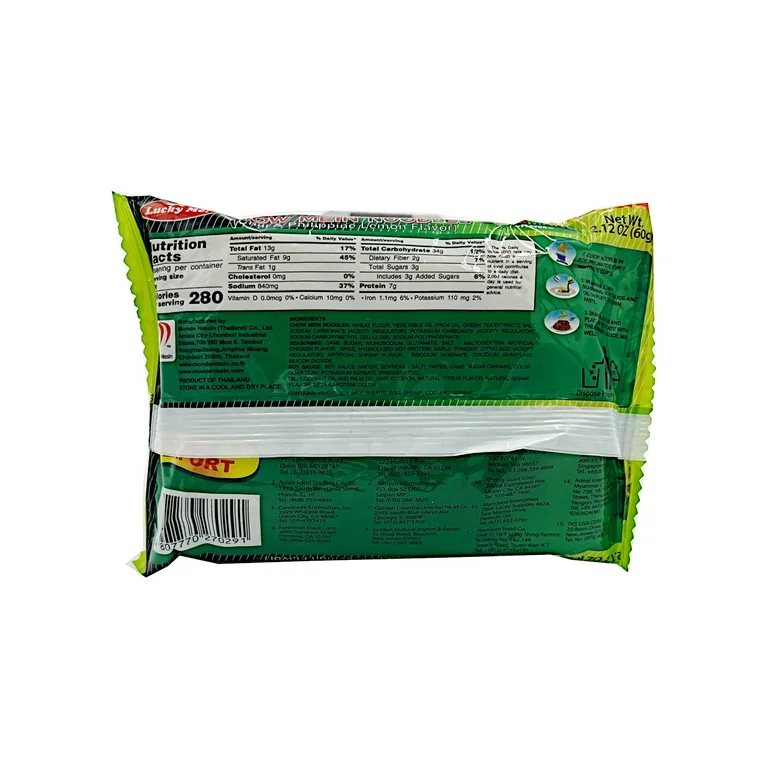non-toxic_waste: (134, 201, 627, 556)
